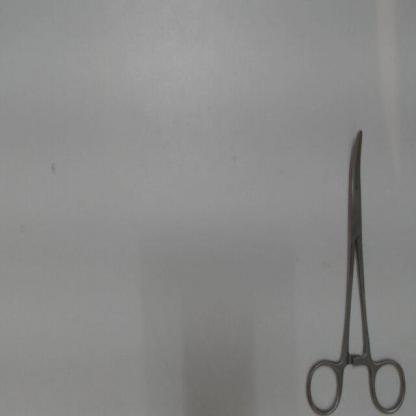Crile Artery Forceps: (298, 120, 412, 416)
